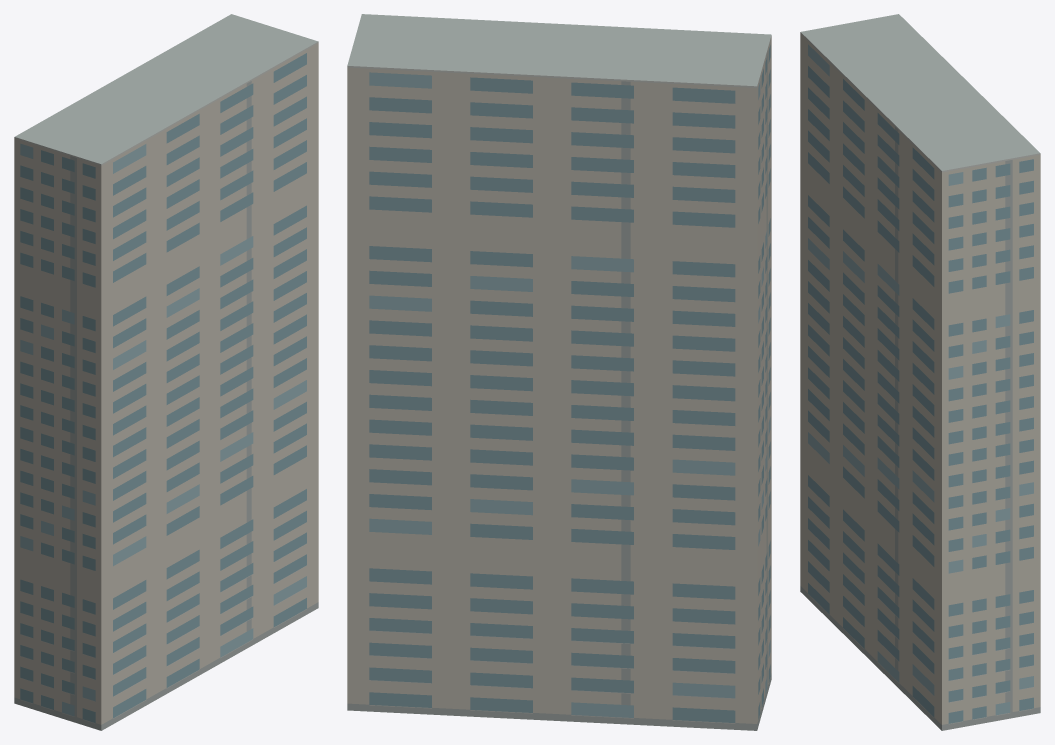
The model's file is residential-5e430a15-3fce-478c-b4d9-c8a9b6631cac.glb.
The picture shows the model from 3 angles, left to right: view 1: azimuth 30°, elevation 25°; view 2: azimuth 150°, elevation 25°; view 3: azimuth 270°, elevation 25°; orthographic projection. The views are drawn at different scales.
Parts seen in each view (by area): view 1: residential-5e430a15-3fce-478c-b4d9-c8a9b6631cac.tmp; view 2: residential-5e430a15-3fce-478c-b4d9-c8a9b6631cac.tmp; view 3: residential-5e430a15-3fce-478c-b4d9-c8a9b6631cac.tmp.
Part boxes in pixels (x1,y1,x2,y2): residential-5e430a15-3fce-478c-b4d9-c8a9b6631cac.tmp: [14, 14, 318, 730]; residential-5e430a15-3fce-478c-b4d9-c8a9b6631cac.tmp: [347, 14, 771, 730]; residential-5e430a15-3fce-478c-b4d9-c8a9b6631cac.tmp: [800, 14, 1040, 730].
Size of the model in its own units: 54.76 by 91 by 35.37.
